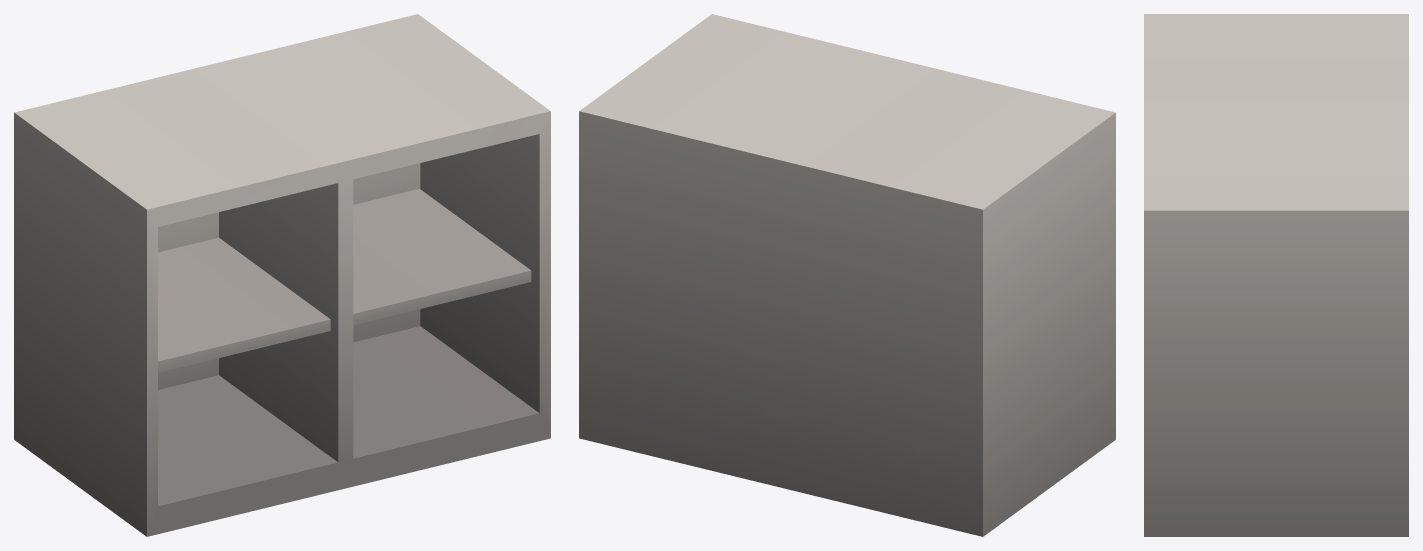
Rendered from Unit_Kitchen_Cabinet_80cm_open.fbx.
The picture shows the model from 3 angles, left to right: view 1: azimuth 30°, elevation 25°; view 2: azimuth 150°, elevation 25°; view 3: azimuth 270°, elevation 25°; orthographic projection.
Visible parts, largest first — view 1: Unit_Kitchen_Cabinet_80cm_open; view 2: Unit_Kitchen_Cabinet_80cm_open; view 3: Unit_Kitchen_Cabinet_80cm_open.
Part boxes in pixels (x1=…): Unit_Kitchen_Cabinet_80cm_open: x1=14, y1=14, x2=550, y2=536; Unit_Kitchen_Cabinet_80cm_open: x1=579, y1=14, x2=1115, y2=536; Unit_Kitchen_Cabinet_80cm_open: x1=1144, y1=14, x2=1408, y2=536.
Size of the model in its own units: 80 by 61.94 by 45.56.
